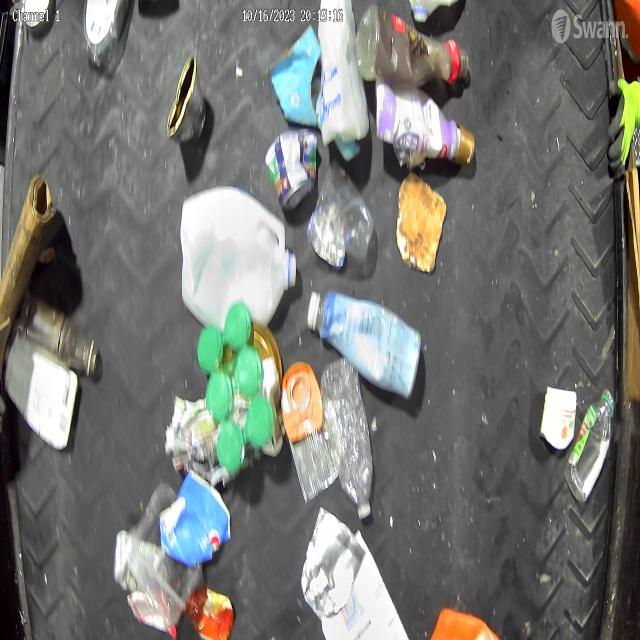can: (302, 512, 364, 618), (262, 120, 318, 220), (168, 49, 220, 154)
milk_jug: (181, 184, 299, 336), (316, 0, 372, 180)
plastic_bottle: (318, 363, 377, 524)
